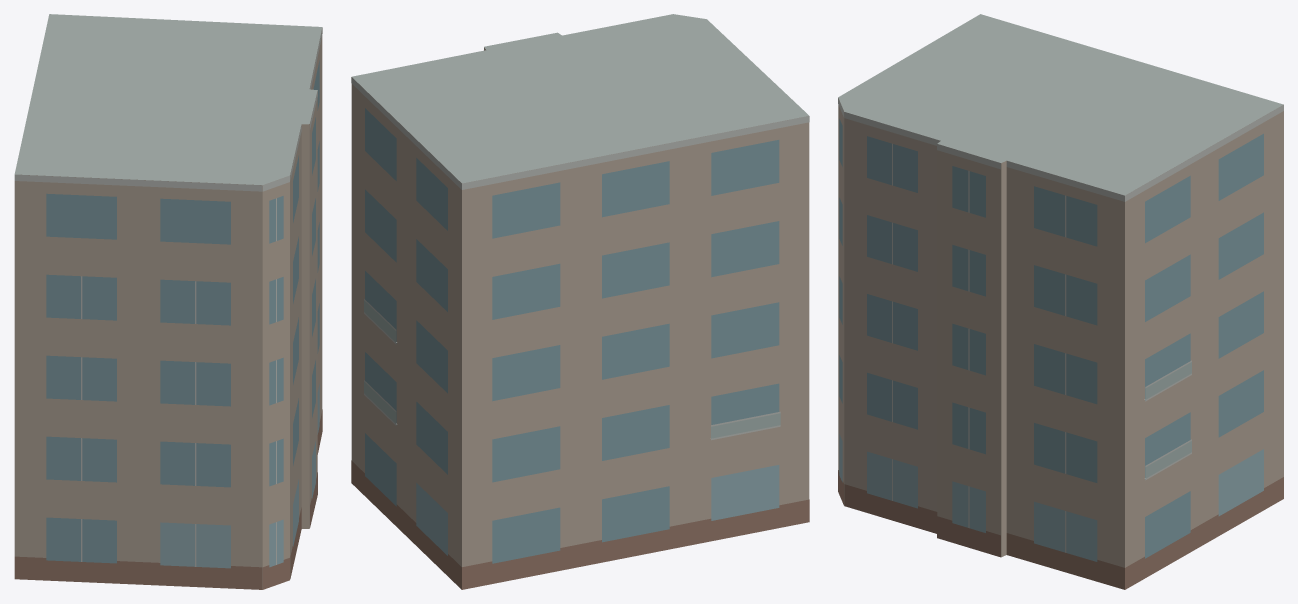
Rendered from survey-upis-32953182.glb.
3 renders of one model, left to right at view 1: azimuth 30°, elevation 25°; view 2: azimuth 150°, elevation 25°; view 3: azimuth 270°, elevation 25°, orthographic. The views are drawn at different scales.
Visible parts, largest first — view 1: survey-upis-32953182.tmp; view 2: survey-upis-32953182.tmp; view 3: survey-upis-32953182.tmp.
Boxes of the visible parts, x1,y1,x2,y2 form: survey-upis-32953182.tmp: (14,14,322,589); survey-upis-32953182.tmp: (351,14,809,589); survey-upis-32953182.tmp: (838,14,1283,589).
Size of the model in its own units: 15.02 by 15.2 by 15.58.
